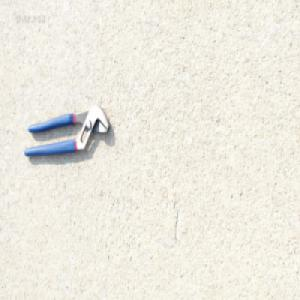Pliers: (23, 104, 111, 158)
